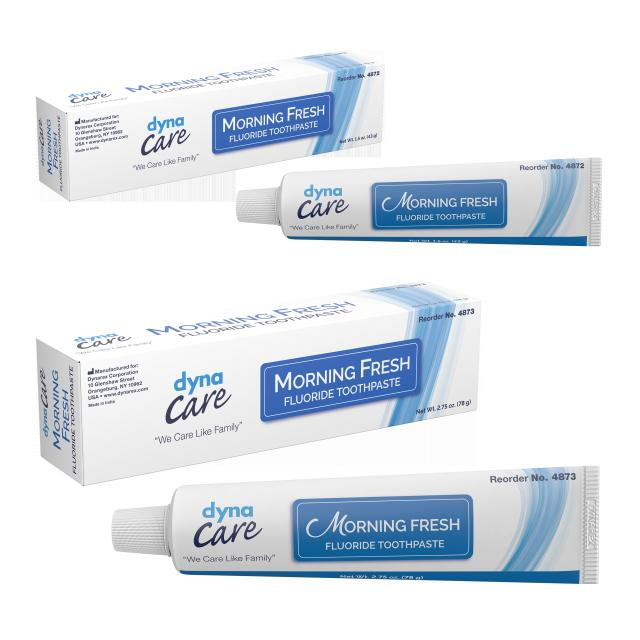toothpaste: (23, 278, 505, 486), (90, 455, 633, 597), (26, 38, 398, 207), (213, 140, 626, 260)
